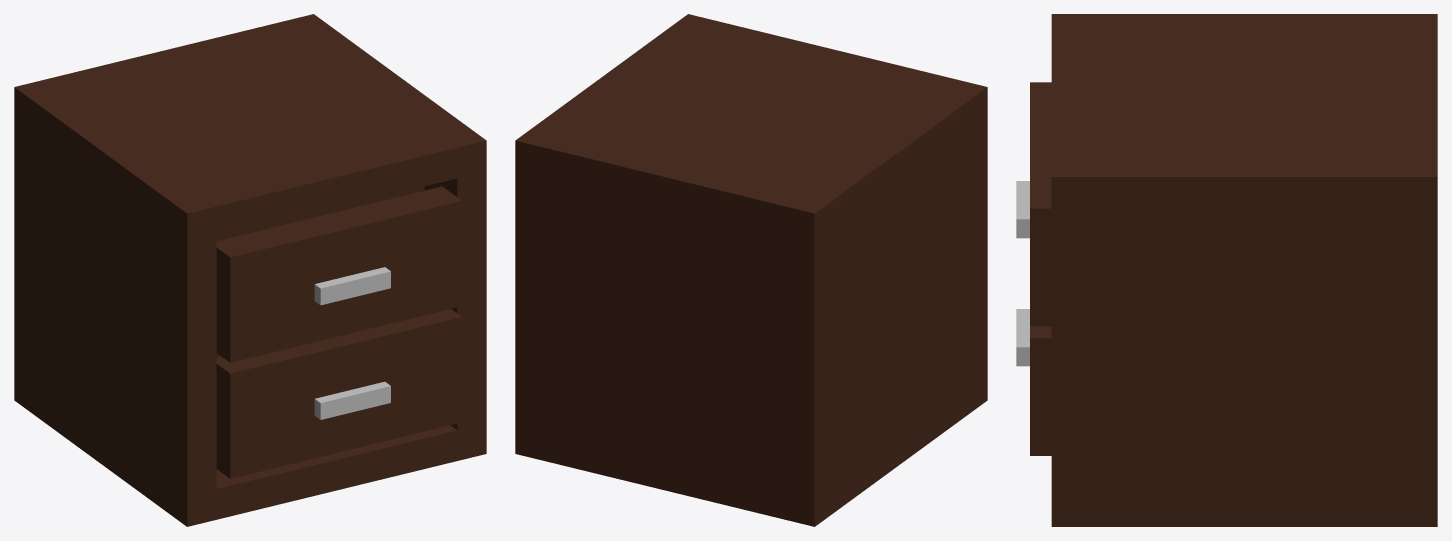
Rendered from Mesilla.fbx.
The picture shows the model from 3 angles, left to right: view 1: azimuth 30°, elevation 25°; view 2: azimuth 150°, elevation 25°; view 3: azimuth 270°, elevation 25°; orthographic projection. The views are drawn at different scales.
Parts seen in each view (by area): view 1: Cubo.004, Cubo.006, Cubo.007; view 2: Cubo.004; view 3: Cubo.004, Cubo.006, Cubo.007.
Part boxes in pixels (x1,y1,x2,y2): Cubo.004: (14, 14, 486, 526); Cubo.006: (216, 186, 462, 478); Cubo.007: (314, 267, 390, 419); Cubo.004: (515, 14, 987, 526); Cubo.004: (1051, 14, 1437, 526); Cubo.006: (1030, 82, 1051, 455); Cubo.007: (1016, 181, 1029, 366).
Size of the model in its own units: 51.73 by 51.73 by 56.44.
